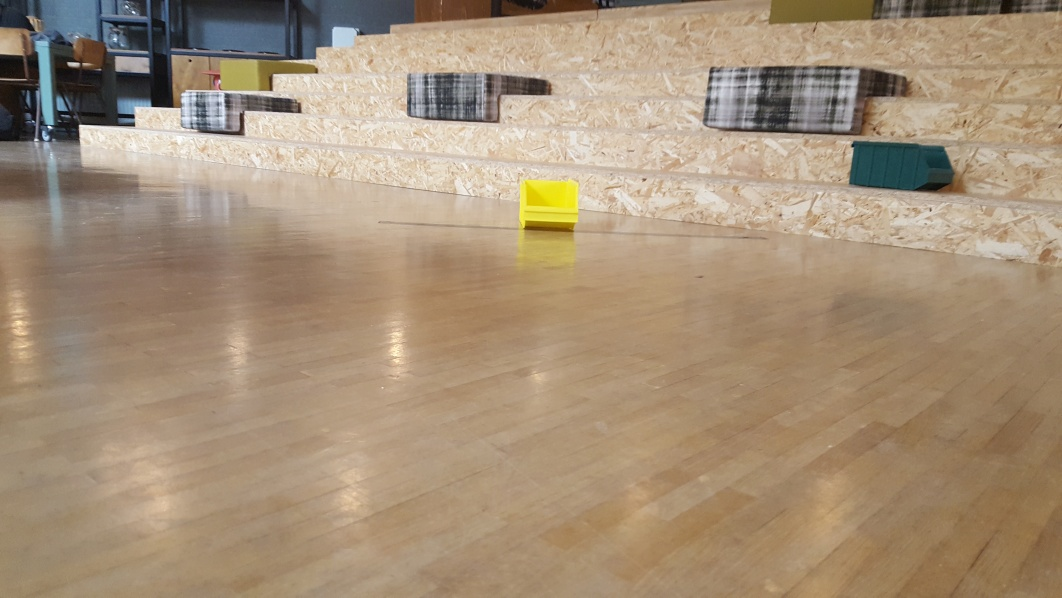tray: (845, 139, 956, 188), (517, 175, 582, 231)
